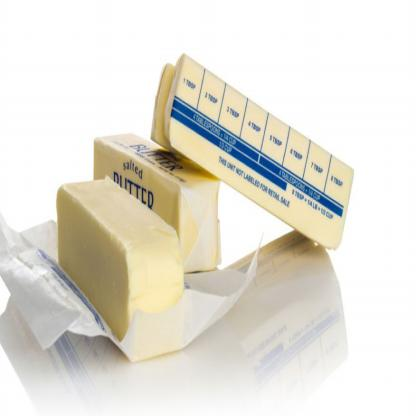butter: (153, 51, 349, 257), (56, 177, 182, 343), (93, 129, 222, 283)
